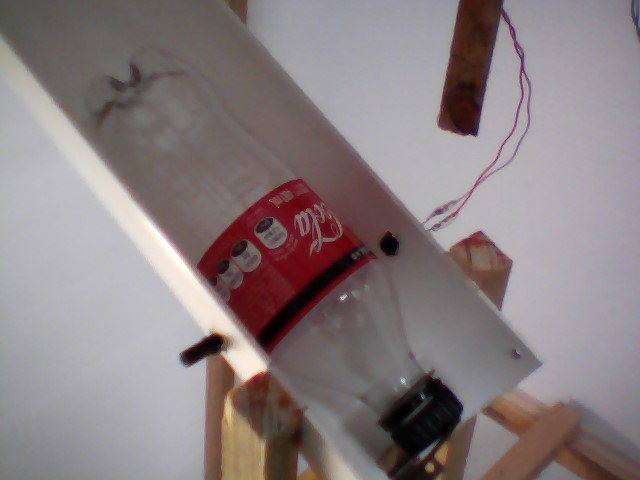plastico: (69, 40, 462, 451)
